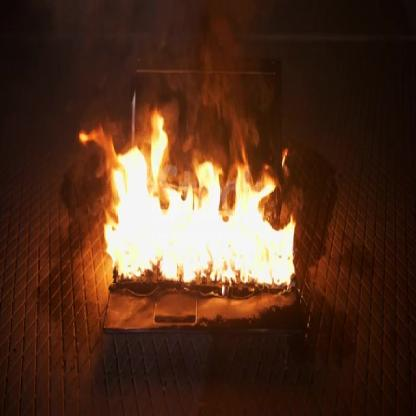fire: (70, 102, 302, 289)
smoke: (51, 0, 281, 167)
